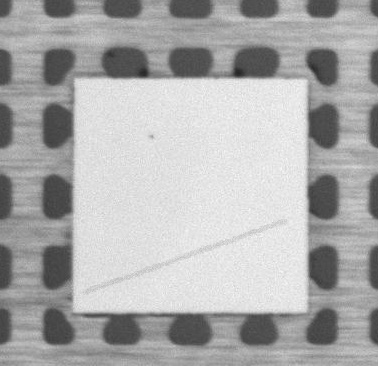DIE_CRACK: (85, 221, 285, 292)
